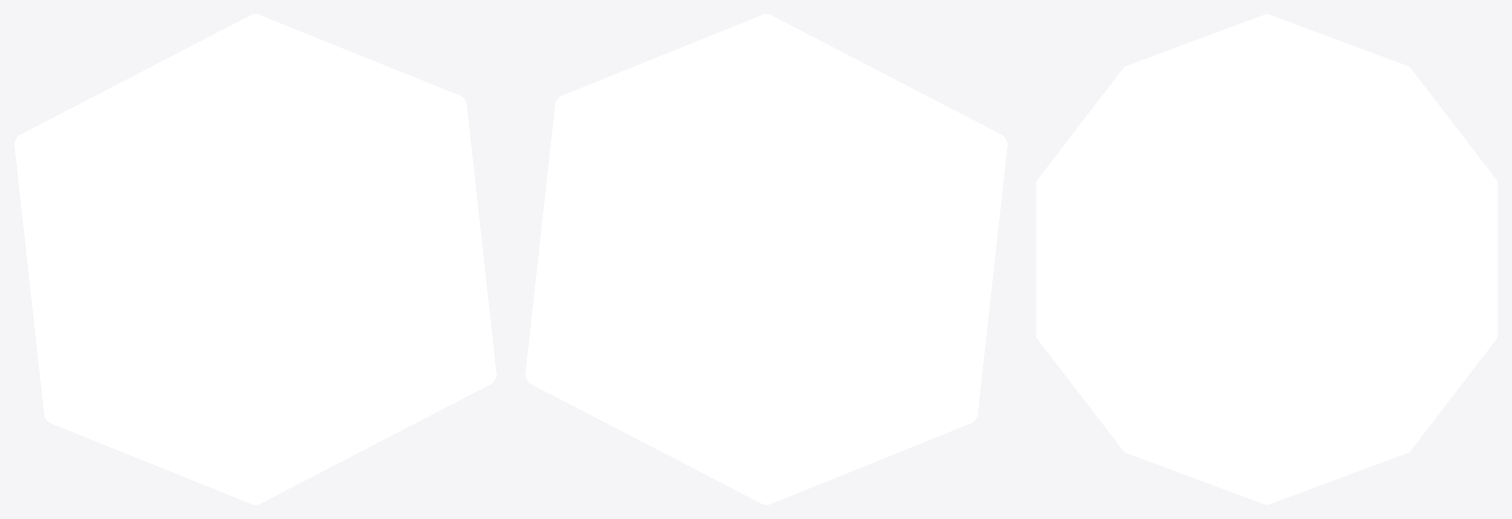
The model's file is Ico.glb.
3 views of the same model, side by side, from view 1: azimuth 30°, elevation 25°; view 2: azimuth 150°, elevation 25°; view 3: azimuth 270°, elevation 25° (orthographic).
Parts seen in each view (by area): view 1: Ico; view 2: Ico; view 3: Ico.
Boxes of the visible parts, x1,y1,x2,y2 form: Ico: [14, 14, 496, 504]; Ico: [525, 14, 1007, 504]; Ico: [1036, 14, 1497, 504].
Bounding box in the file's own units: 2.23 × 2.48 × 2.12.
1 material, 1 textured.
